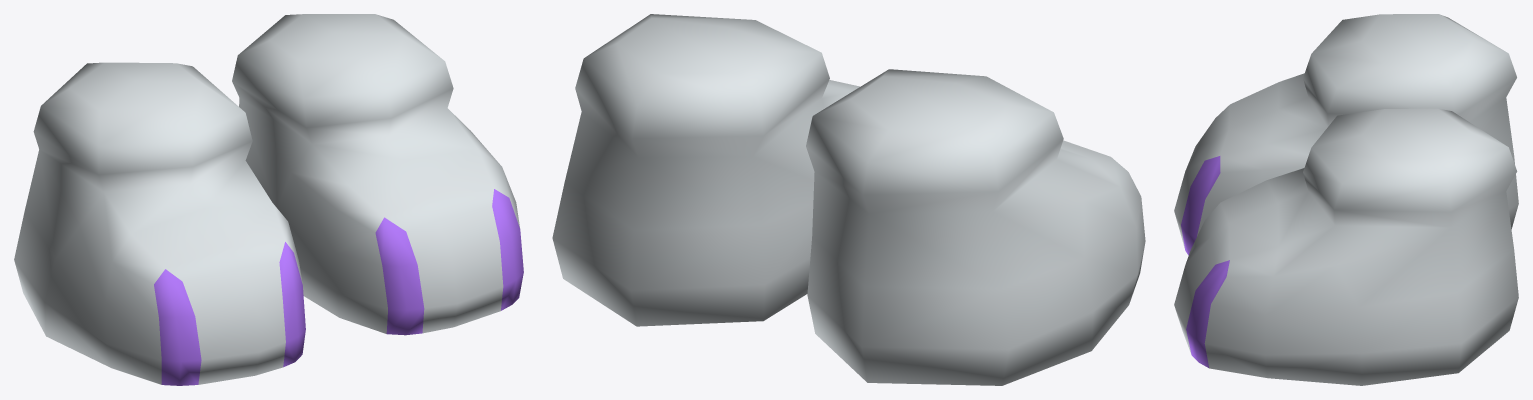
The model's file is Shoes_35.fbx.
3 renders of one model, left to right at view 1: azimuth 30°, elevation 25°; view 2: azimuth 150°, elevation 25°; view 3: azimuth 270°, elevation 25°, orthographic. The views are drawn at different scales.
Visible parts, largest first — view 1: Shoes_35; view 2: Shoes_35; view 3: Shoes_35.
Part boxes in pixels (x1=…): Shoes_35: x1=14, y1=14, x2=523, y2=385; Shoes_35: x1=552, y1=14, x2=1145, y2=385; Shoes_35: x1=1174, y1=14, x2=1518, y2=385.
Size of the model in its own units: 45.51 by 20.76 by 32.25.
